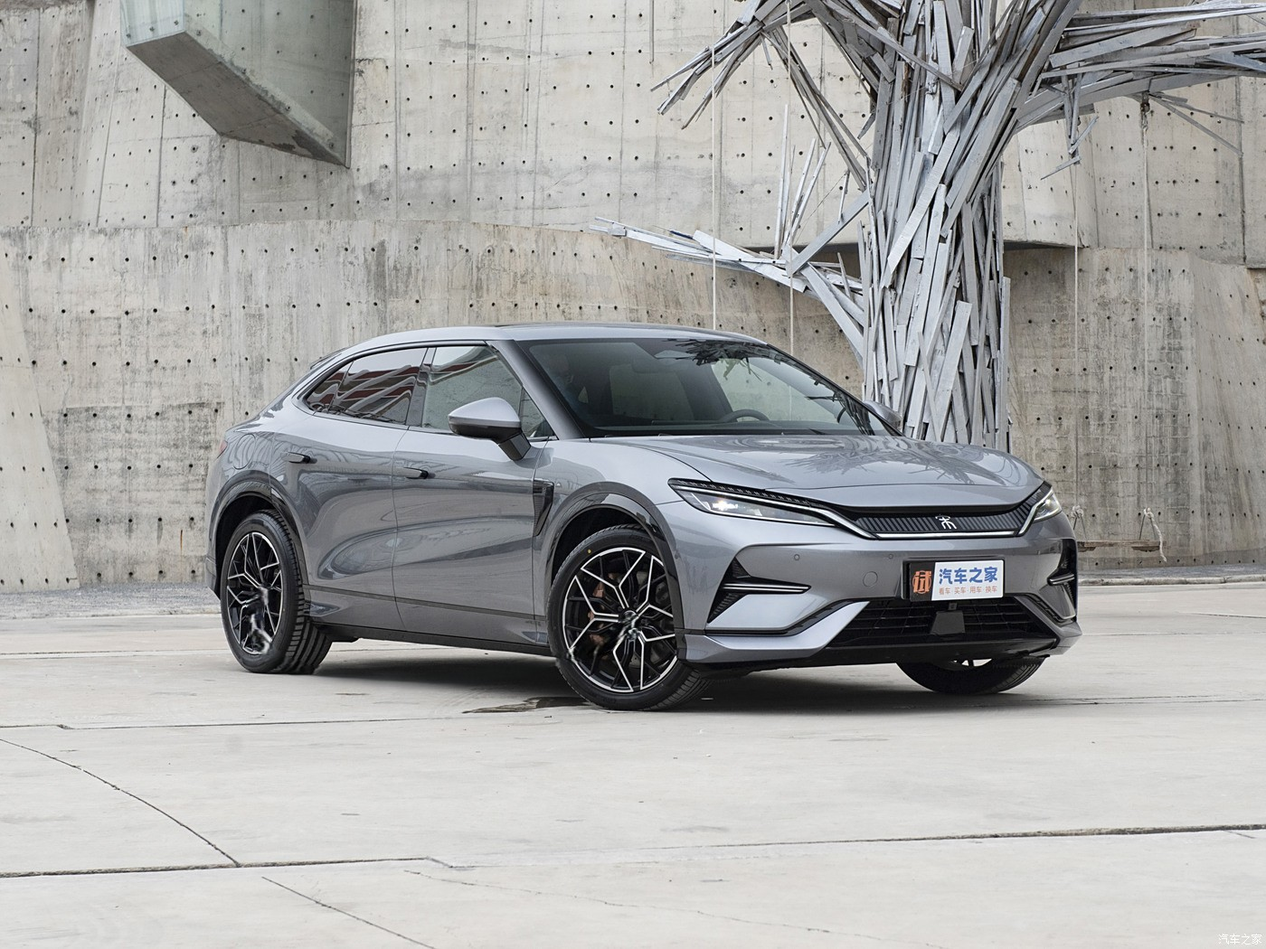BYD Song: (936, 514, 956, 529)
